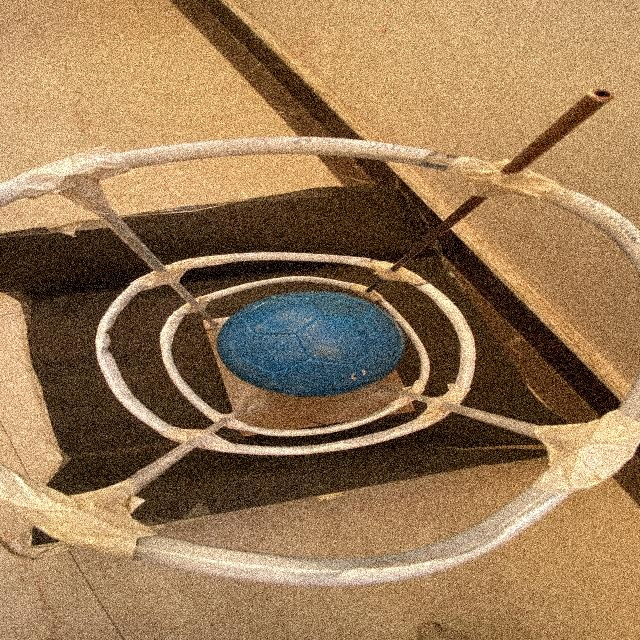blue_ball: (232, 289, 409, 389)
silo: (0, 110, 640, 592)
